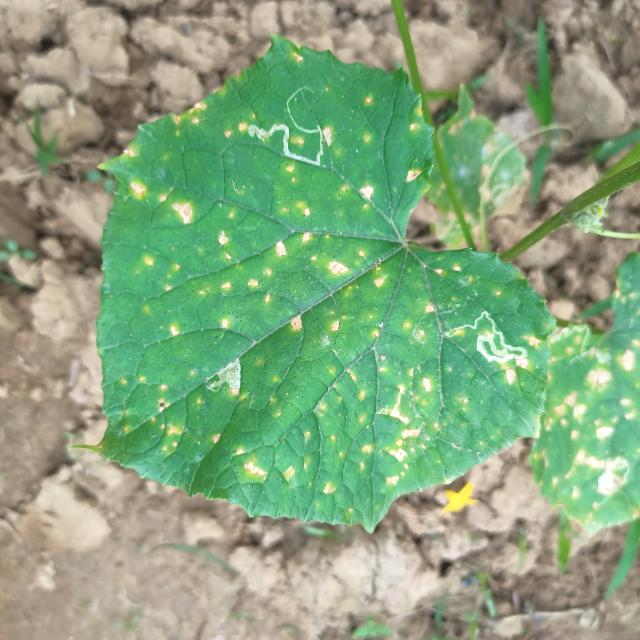disease_cucumber: (114, 89, 540, 514), (553, 300, 640, 523)
